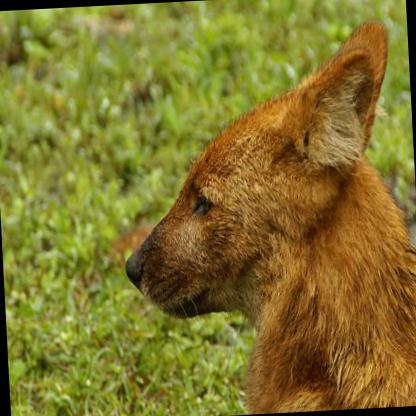dhole: (112, 16, 416, 416)
